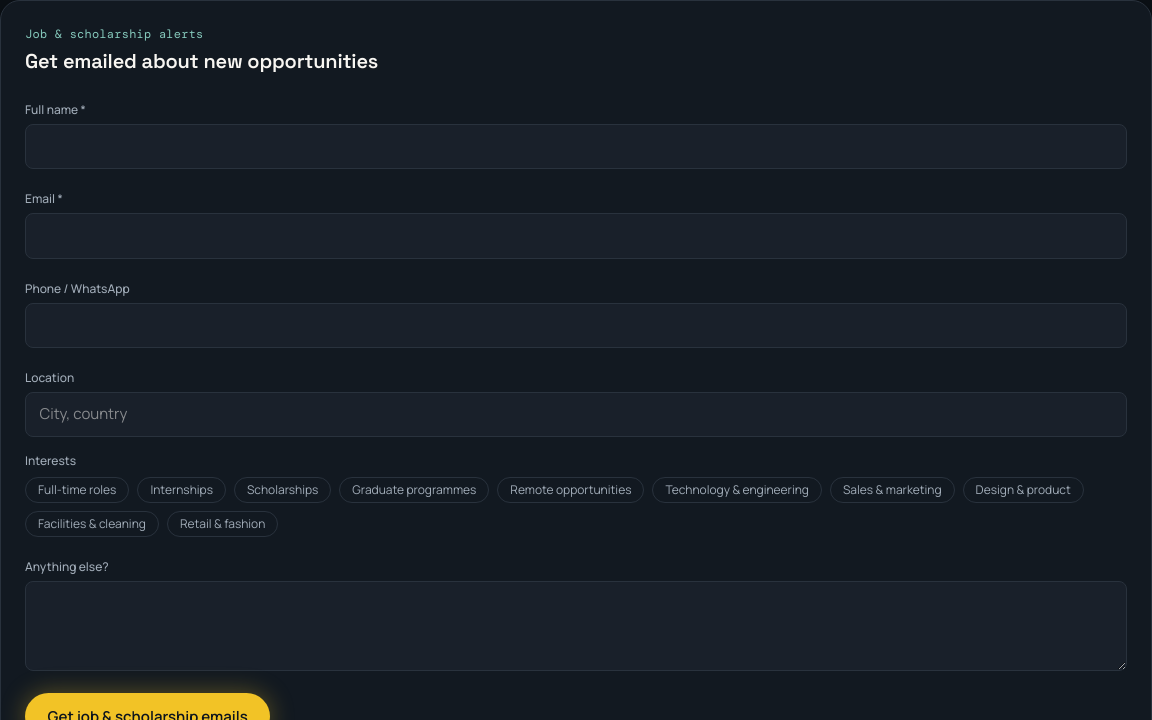
Test: JobAlertForm › rejects an invalid email instead of accepting any text
The width and height of the screenshot is (1152, 720).
Type "Ama Mensah" into the field labelled "Full name *" at (576, 147), box [25,124,1127,169]
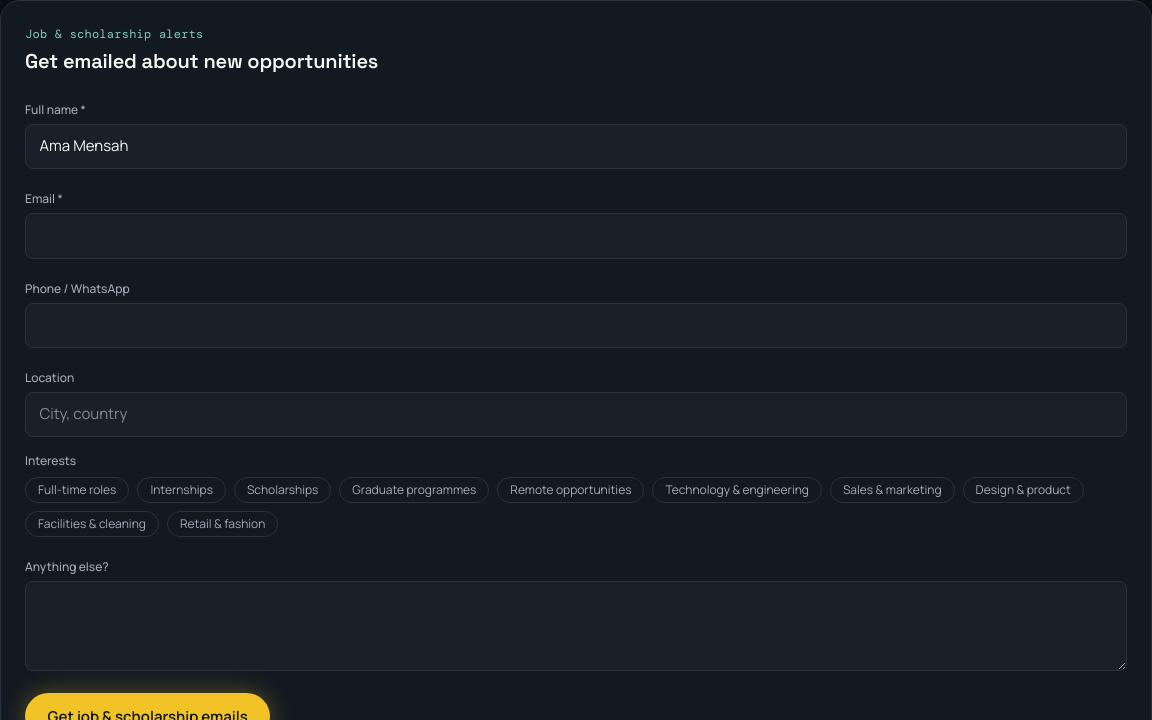
Type "not-an-email" into the field labelled "Email *" at (576, 236), box [25,213,1127,259]
(page scrolled)
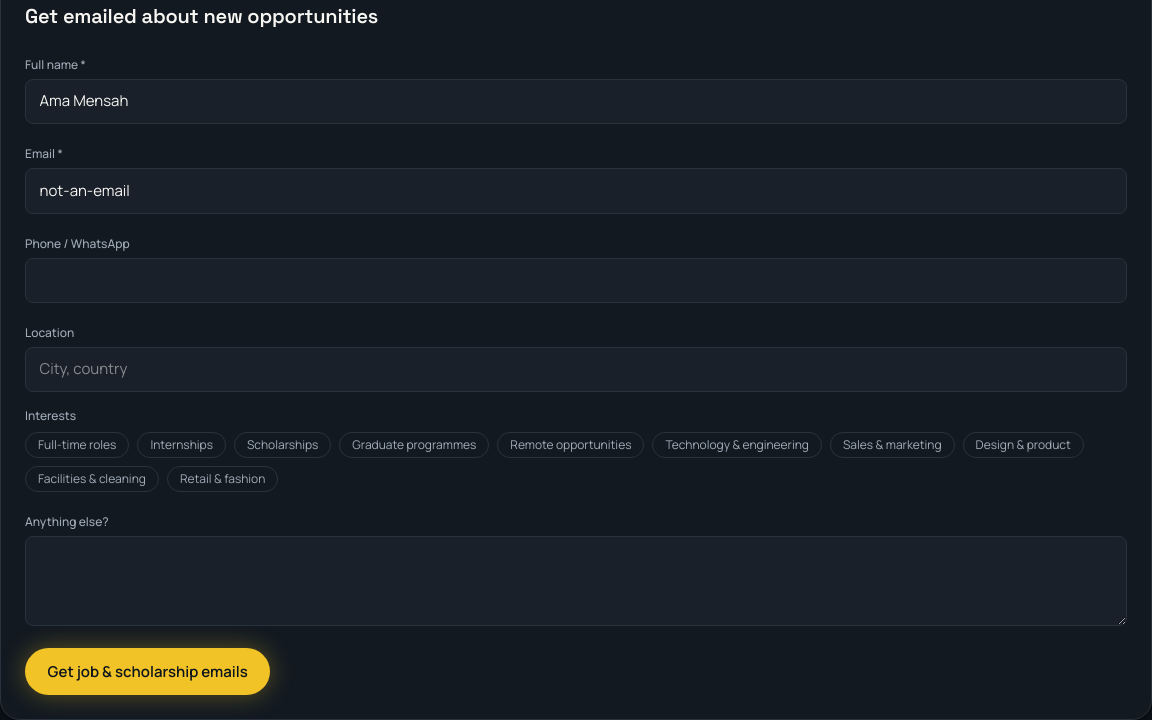
Click the button "Get job & scholarship emails" at (148, 672), box [25,648,270,695]
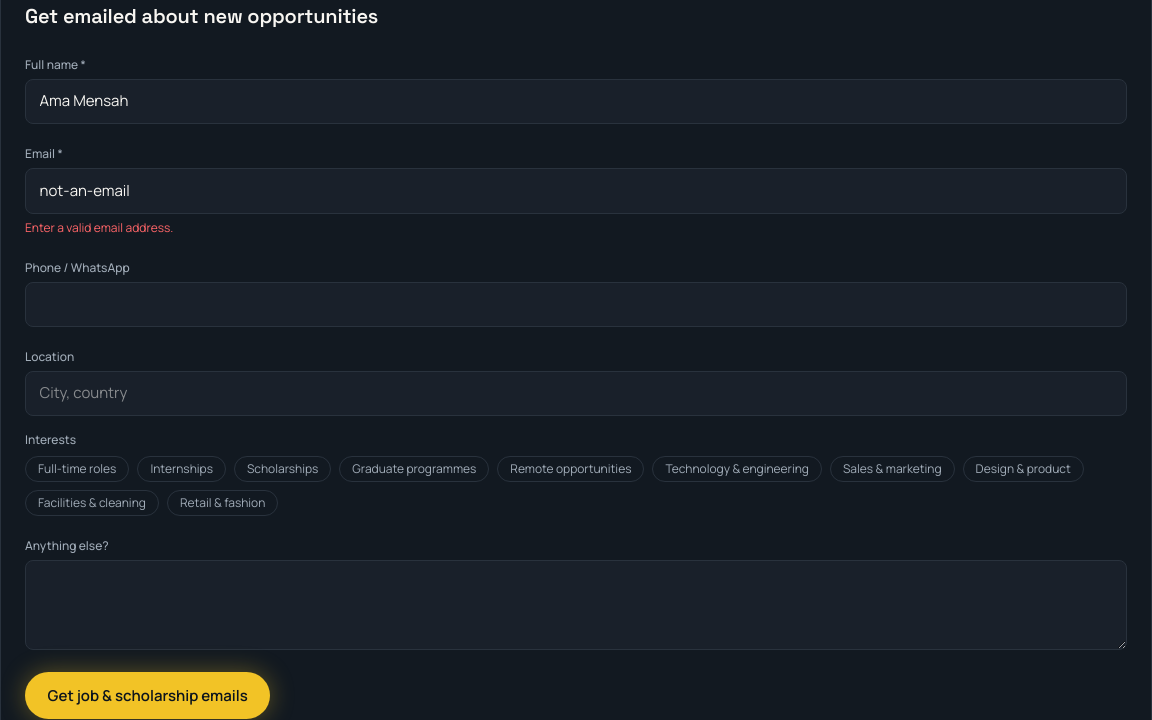
Check: the text "Enter a valid email address." is shown, box [25,219,173,236]
